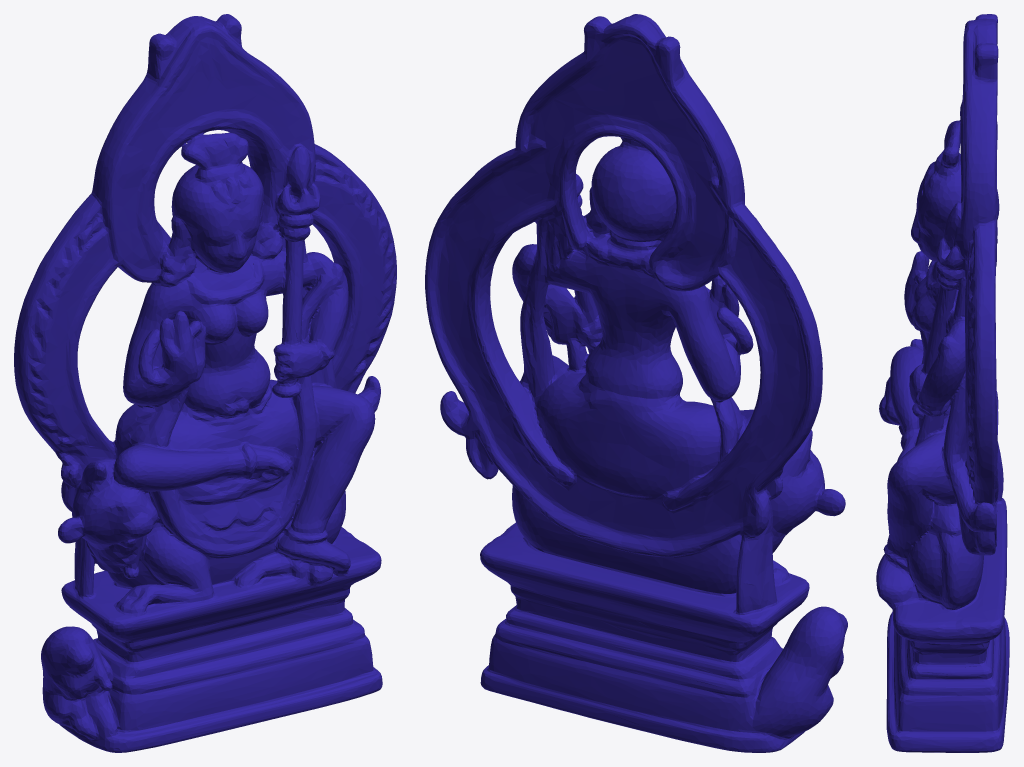
The model's file is iter_20.glb.
3 renders of one model, left to right at view 1: azimuth 30°, elevation 25°; view 2: azimuth 150°, elevation 25°; view 3: azimuth 270°, elevation 25°, orthographic. The views are drawn at different scales.
Visible parts, largest first — view 1: textured_mesh; view 2: textured_mesh; view 3: textured_mesh.
Boxes of the visible parts, x1=… form: textured_mesh: x1=14, y1=14, x2=396, y2=752; textured_mesh: x1=425, y1=14, x2=847, y2=752; textured_mesh: x1=876, y1=14, x2=1009, y2=752.
Size of the model in its own units: 1.17 by 1.99 by 0.3629.
